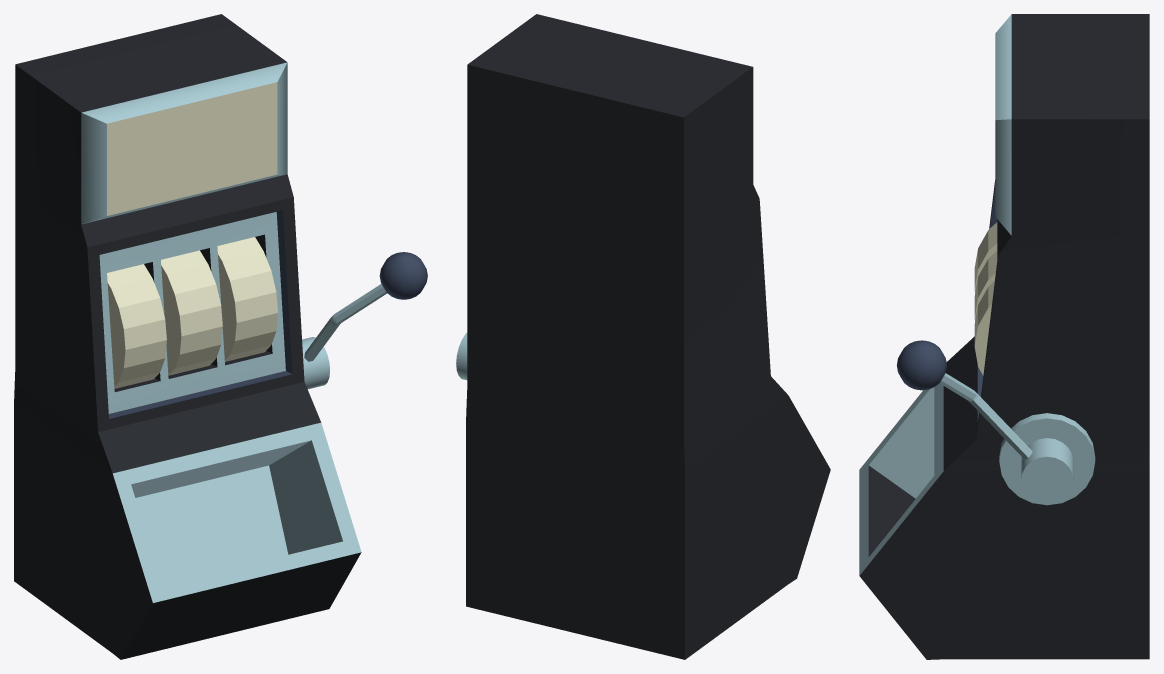
The model's file is slotmachine.glb.
The picture shows the model from 3 angles, left to right: view 1: azimuth 30°, elevation 25°; view 2: azimuth 150°, elevation 25°; view 3: azimuth 270°, elevation 25°; orthographic projection. The views are drawn at different scales.
Visible parts, largest first — view 1: machine, slot2, slot3, slot1, handleBall, handlePole, handleJoint; view 2: machine; view 3: machine, handleJoint, handleBall, handlePole, slot3, slot1, slot2.
Part boxes in pixels (bbox=[...]): machine: bbox=[14, 14, 361, 659]; slot2: bbox=[161, 250, 222, 375]; slot3: bbox=[217, 237, 277, 361]; slot1: bbox=[107, 264, 166, 388]; handleBall: bbox=[379, 252, 427, 299]; handlePole: bbox=[304, 284, 387, 361]; handleJoint: bbox=[302, 337, 329, 389]; machine: bbox=[466, 14, 830, 659]; machine: bbox=[859, 14, 1149, 659]; handleJoint: bbox=[999, 413, 1095, 505]; handleBall: bbox=[896, 340, 946, 390]; handlePole: bbox=[940, 373, 1032, 459]; slot3: bbox=[974, 281, 994, 375]; slot1: bbox=[974, 222, 997, 292]; slot2: bbox=[974, 251, 997, 321].
Bounding box in the file's own units: 8.77 × 14.37 × 6.99.
